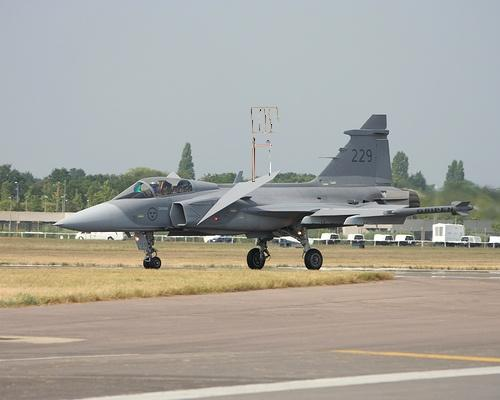tampered: (252, 108, 279, 182)
